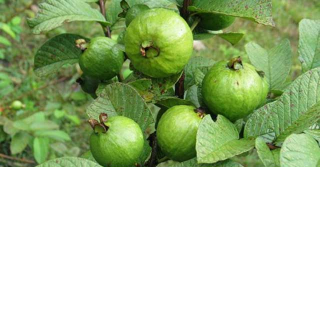oi: (118, 5, 194, 81), (198, 56, 268, 124), (85, 110, 149, 168)
